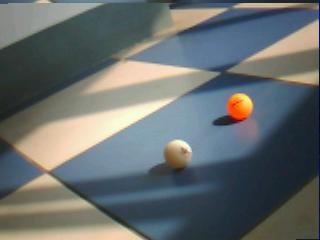oball: (227, 93, 253, 122)
